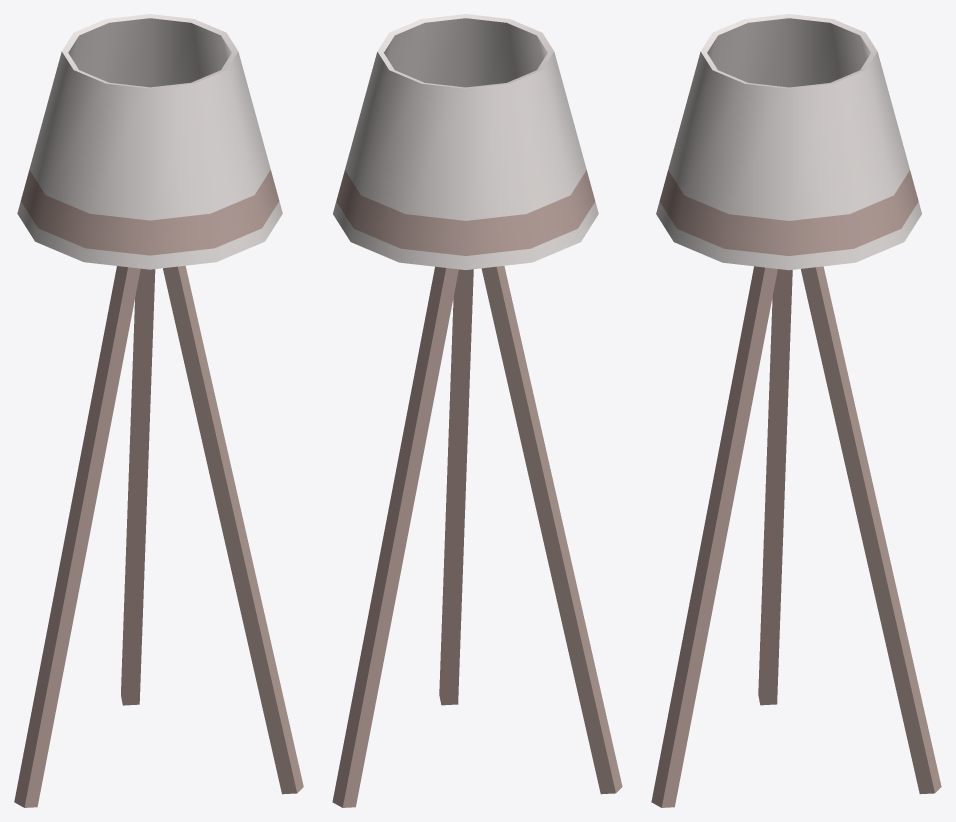
File: lamp.glb
The picture shows the model from 3 angles, left to right: view 1: azimuth 30°, elevation 25°; view 2: azimuth 150°, elevation 25°; view 3: azimuth 270°, elevation 25°; orthographic projection.
Parts seen in each view (by area): view 1: lamp_002; view 2: lamp_002; view 3: lamp_002.
Boxes of the visible parts, box(x1,y1,x2,y2) form: lamp_002: box(14, 14, 303, 807); lamp_002: box(332, 14, 622, 807); lamp_002: box(651, 14, 941, 807).
Bounding box in the file's own units: 1.05 × 2.78 × 1.02.
Materials: 1 (1 with a texture image).
